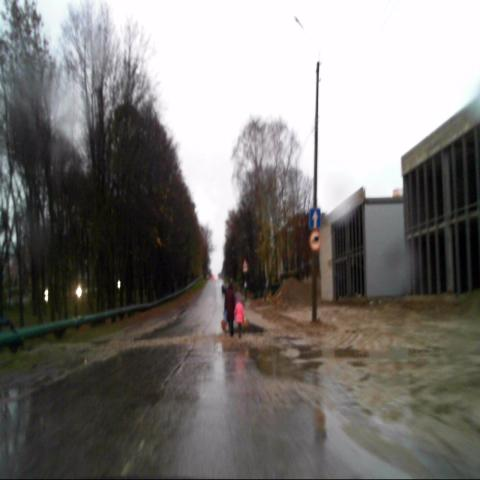3_4_1: (309, 229, 321, 251)
5_5: (309, 208, 320, 229)
